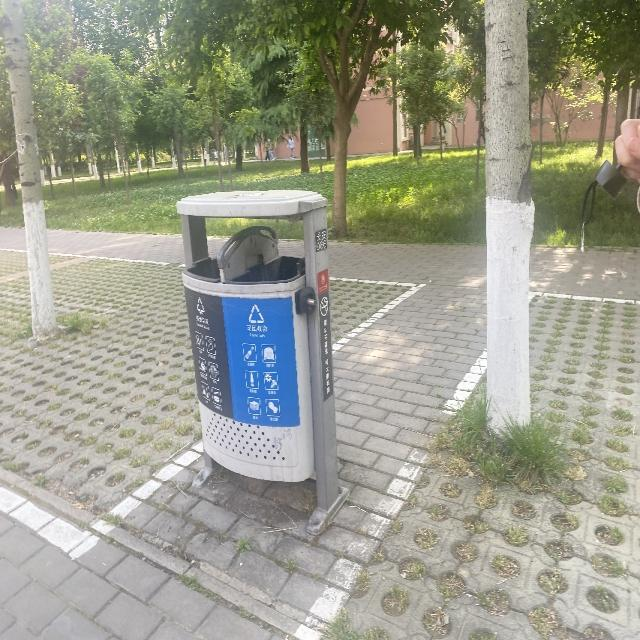garbage_bin: (175, 187, 348, 538)
